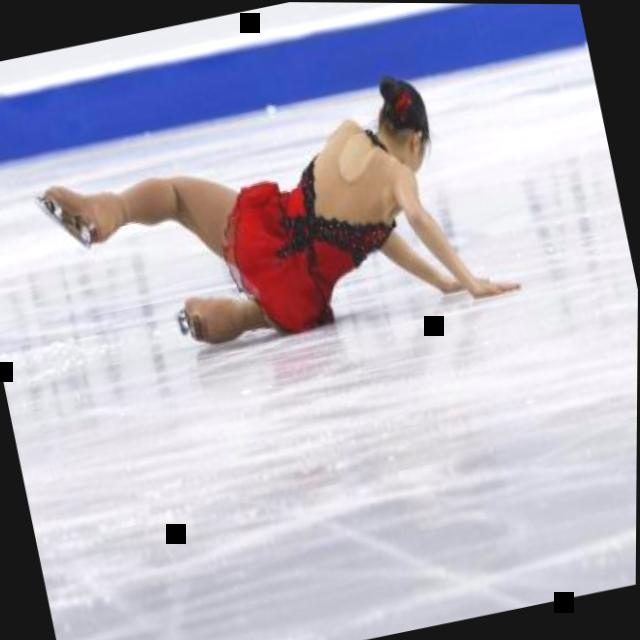Fall-Detected: (21, 20, 520, 387)
